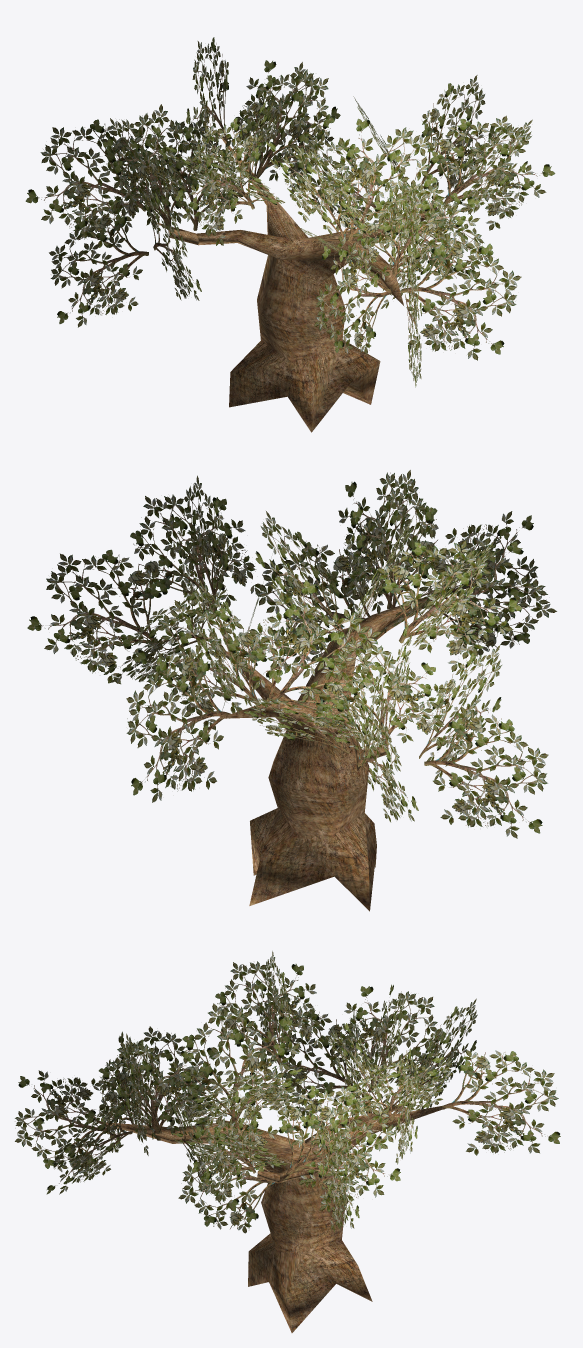
The model's file is decd_blba_tree_l2.fbx.
3 views of the same model, one above another, from view 1: azimuth 30°, elevation 25°; view 2: azimuth 150°, elevation 25°; view 3: azimuth 270°, elevation 25° (orthographic). The views are drawn at different scales.
Visible parts, largest first — view 1: mesh_node; view 2: mesh_node; view 3: mesh_node.
Part boxes in pixels (x1,y1,x2,y2): mesh_node: [25, 37, 555, 432]; mesh_node: [27, 470, 556, 911]; mesh_node: [15, 951, 560, 1332].
Bounding box in the file's own units: 13.65 × 9.8 × 15.35.
